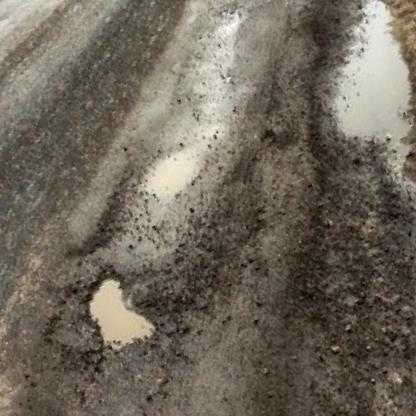pothole: (74, 261, 158, 359)
